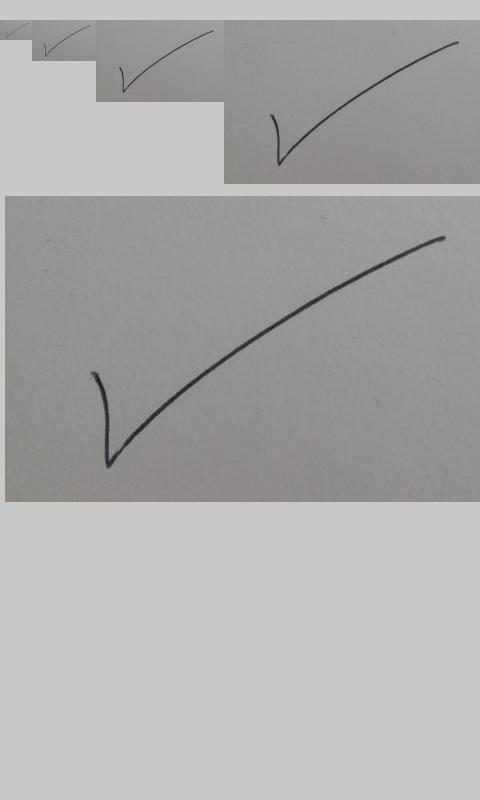check_box: (91, 237, 444, 469), (269, 40, 459, 166), (118, 30, 213, 93), (43, 25, 91, 57), (5, 22, 29, 38)
